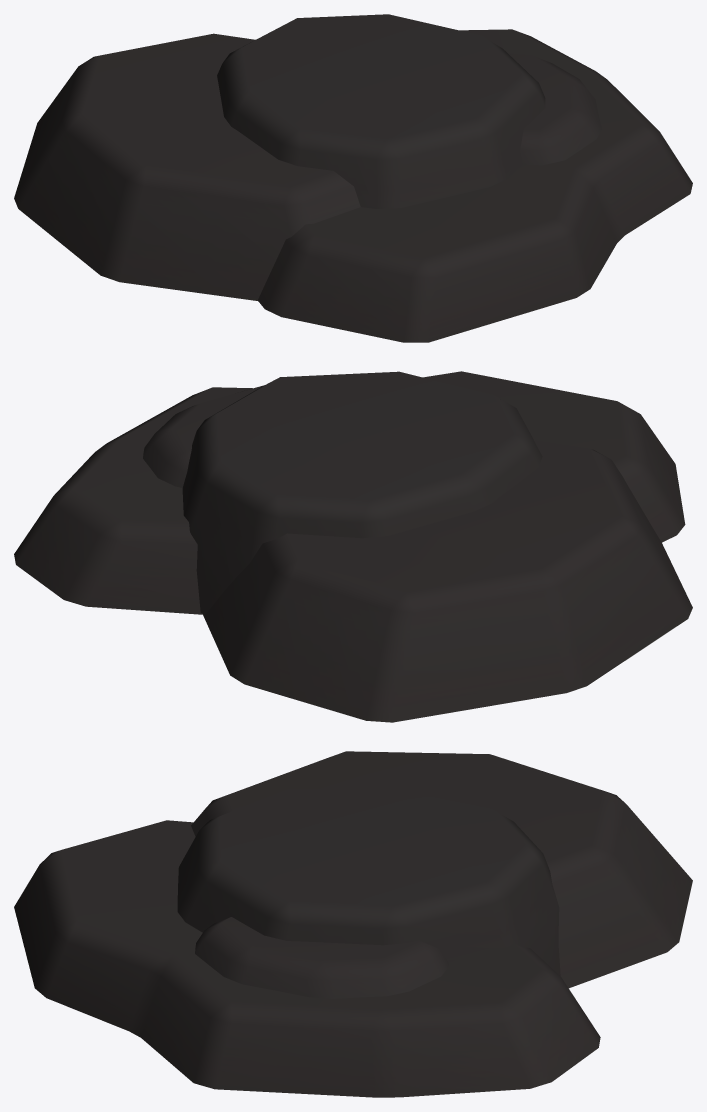
The model's file is RockSmall_004.glb.
The picture shows the model from 3 angles, top to bottom: view 1: azimuth 30°, elevation 25°; view 2: azimuth 150°, elevation 25°; view 3: azimuth 270°, elevation 25°; orthographic projection. The views are drawn at different scales.
Visible parts, largest first — view 1: RockSmall_004; view 2: RockSmall_004; view 3: RockSmall_004.
Boxes of the visible parts, box(x1,y1,x2,y2) form: RockSmall_004: box(14, 14, 692, 342); RockSmall_004: box(14, 371, 692, 722); RockSmall_004: box(14, 751, 692, 1097).
Size of the model in its own units: 3.89 by 0.788 by 3.98.
Materials: 1 (1 with a texture image).
